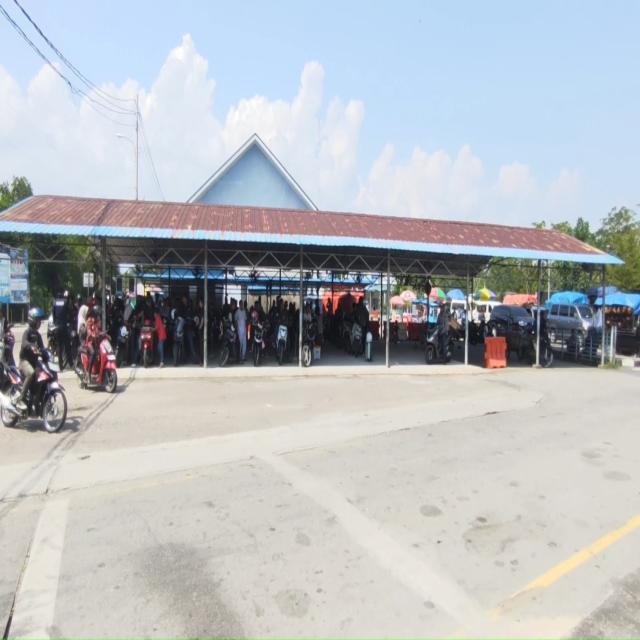Golongan II: (0, 348, 67, 433), (75, 334, 117, 393), (518, 326, 554, 368), (426, 326, 454, 364), (220, 320, 238, 367), (252, 319, 268, 366), (302, 318, 317, 368), (115, 320, 130, 367), (140, 319, 154, 368), (0, 324, 15, 366), (173, 316, 185, 366), (462, 322, 486, 345), (340, 314, 354, 352), (348, 322, 362, 358), (276, 324, 288, 365), (68, 323, 79, 364), (47, 313, 57, 354)
